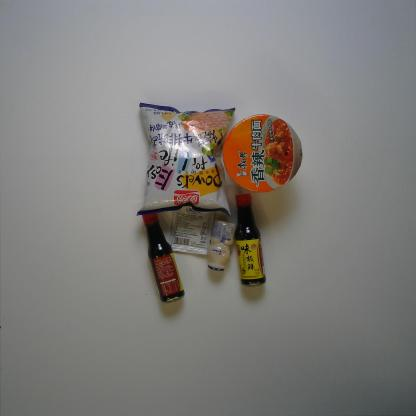Instant Noodles: (221, 112, 304, 194)
Milk: (206, 219, 237, 273)
Puffed Food: (134, 102, 232, 218)
Seasoner: (140, 210, 186, 305), (233, 192, 266, 288), (170, 203, 216, 256)
